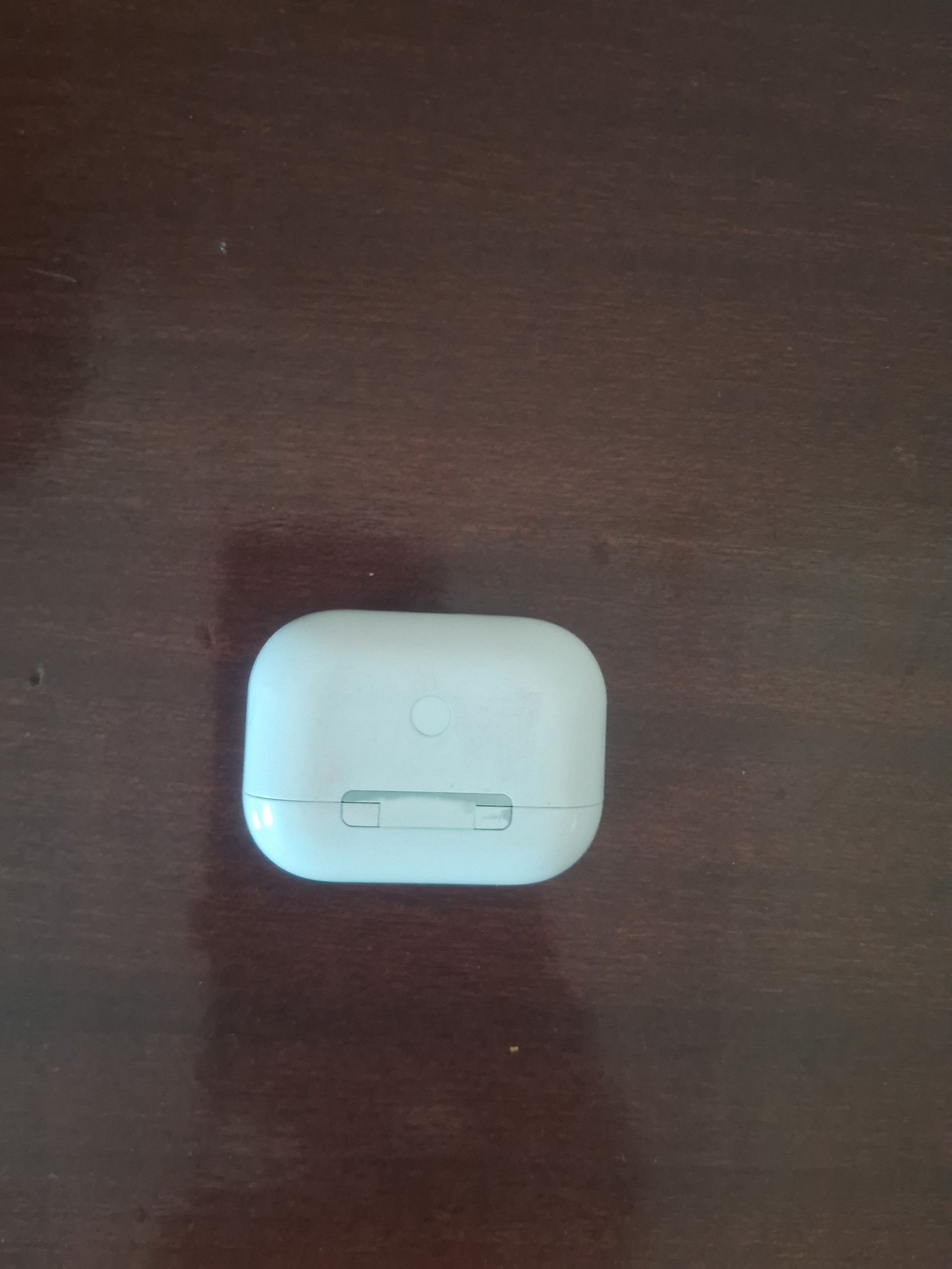Air_pod: (232, 604, 626, 897)
